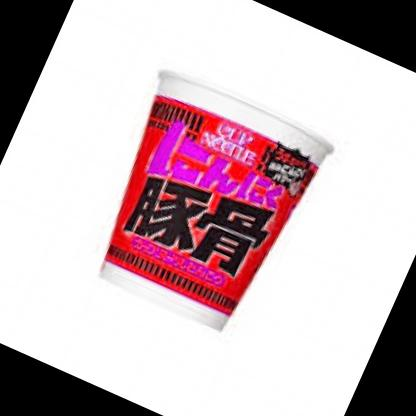Ramen: (60, 54, 352, 364)
